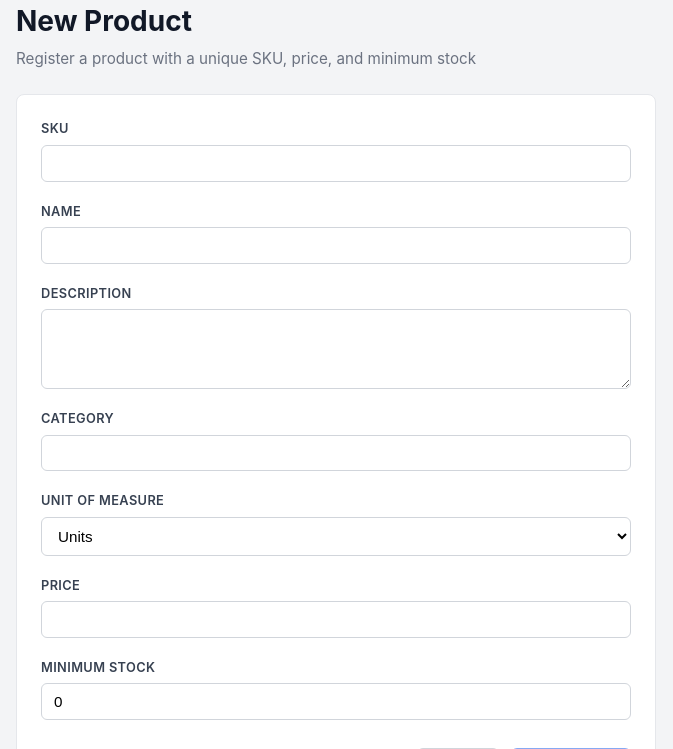
Test case: ProductForm › creates a product when the form is valid
Type "FORM-001" into the field labelled "SKU".
click(336, 163); type("FORM-001")  # box [41,145,631,182]
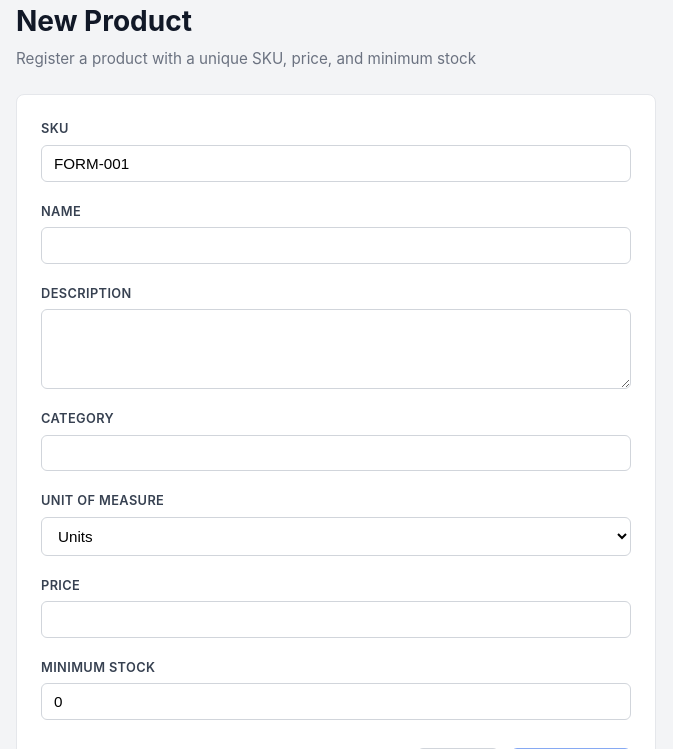
Type "Created From Form" into the field labelled "Name".
click(336, 245); type("Created From Form")  # box [41,227,631,264]
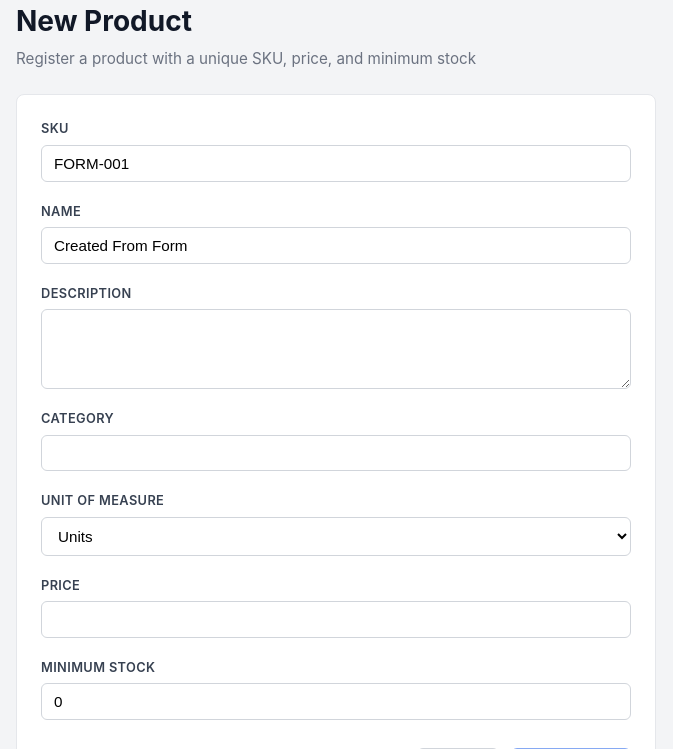
Type "General" into the field labelled "Category".
click(336, 453); type("General")  # box [41,435,631,472]
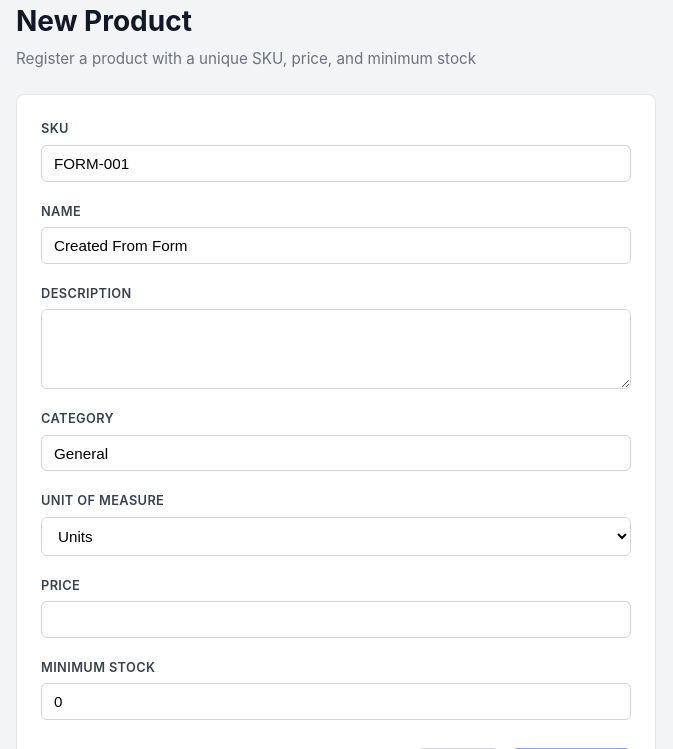
Type "15.5" into the number field labelled "Price".
click(336, 620); type("15.5")  # box [41,601,631,638]
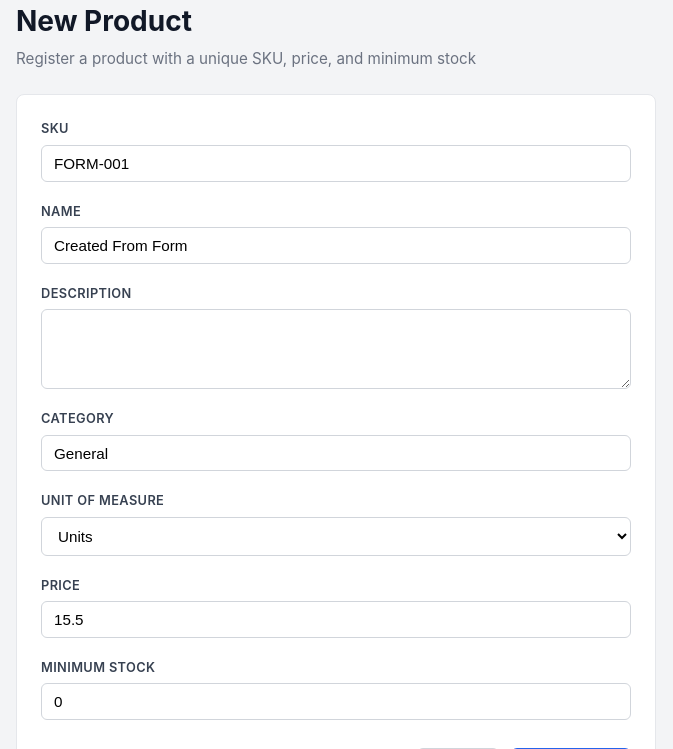
Replace the text in the number field labelled "Minimum stock" with "2" at [336, 702], box [41,683,631,720]
(page scrolled)
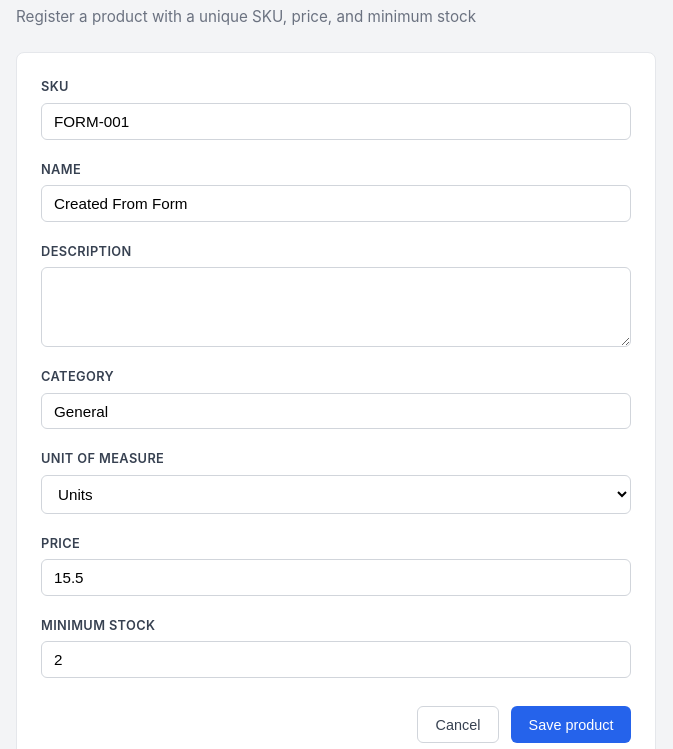
Click the button "Save product".
click(571, 725)  # box [511,706,631,743]
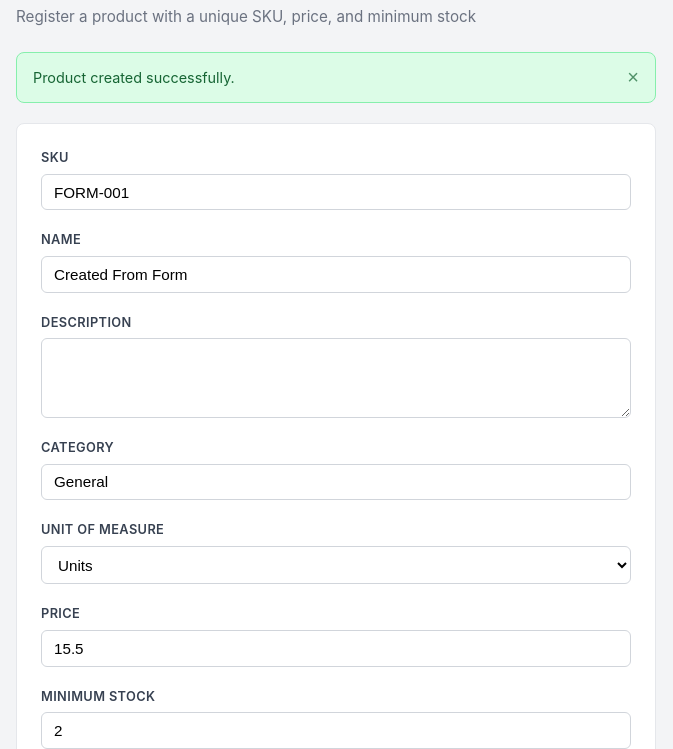
Expected: the text "Product created successfully." is shown, [33,67,235,89]
